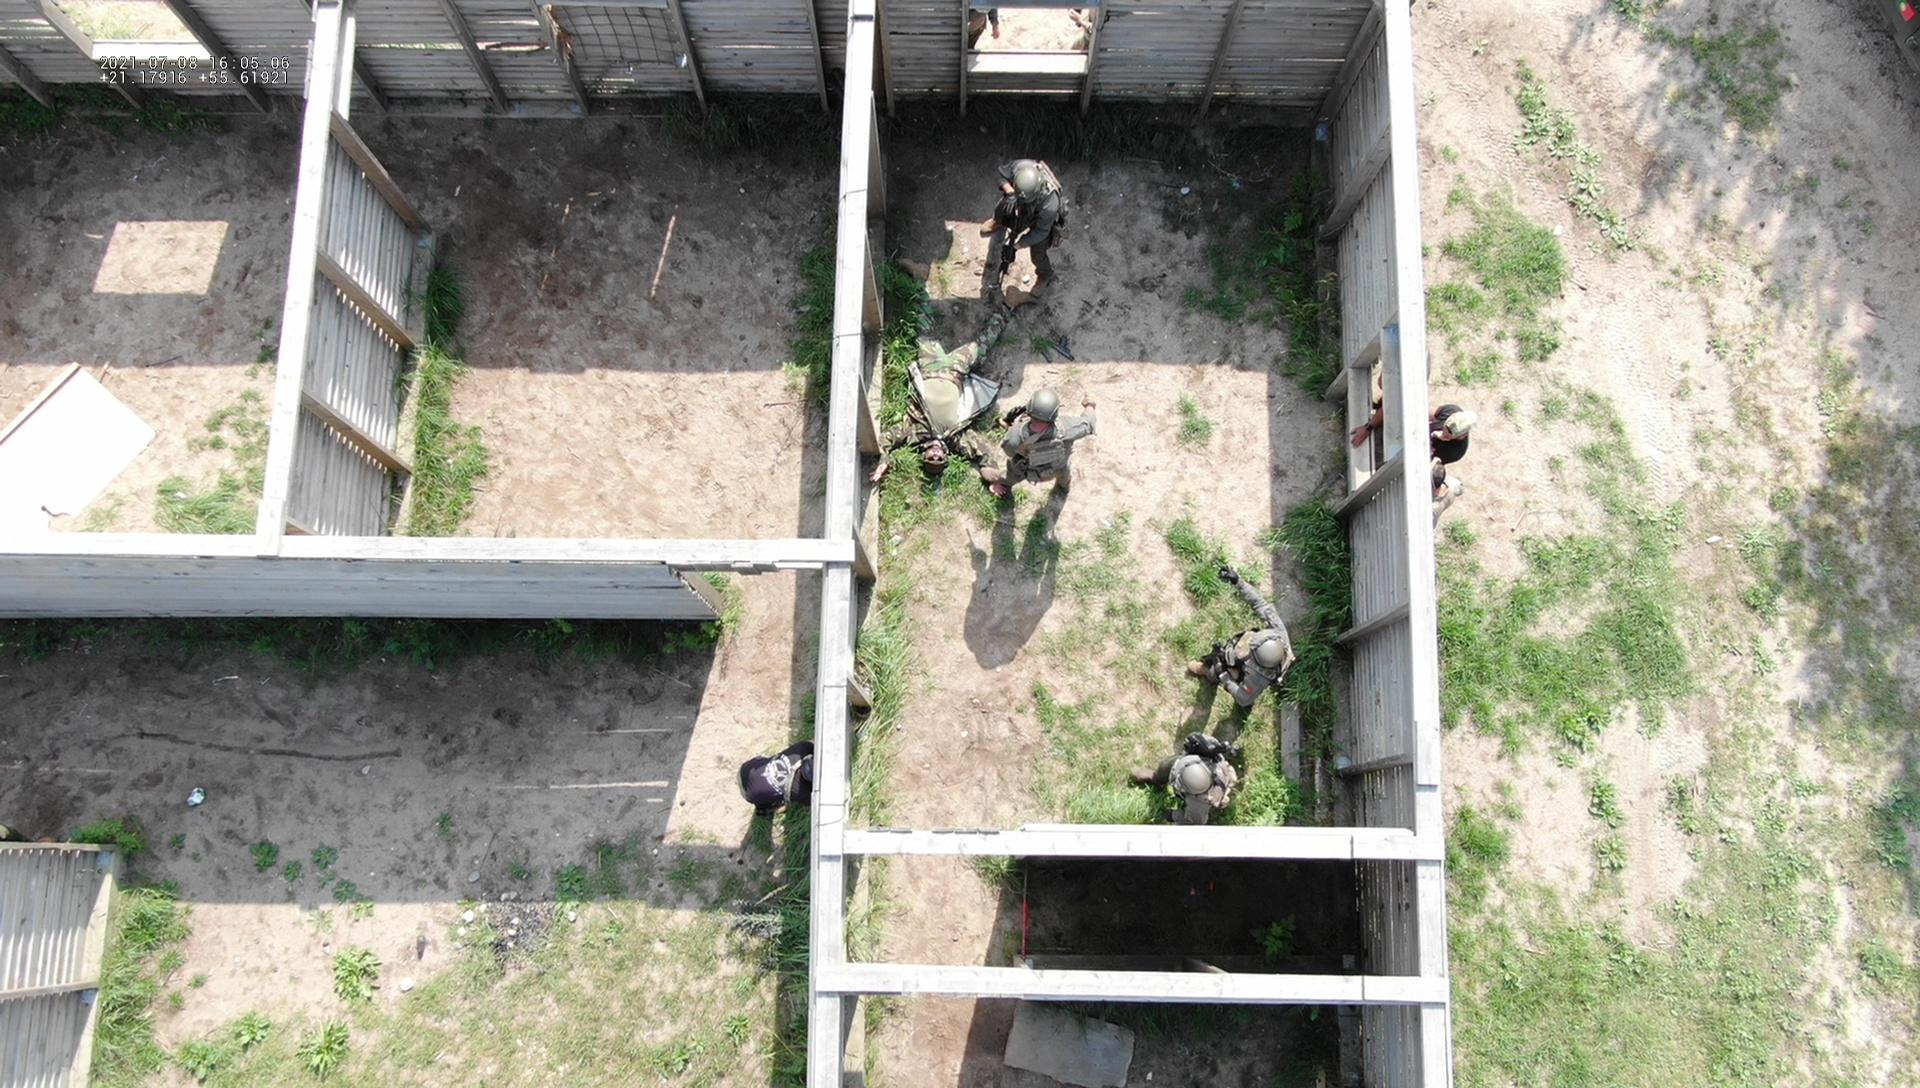Soldier: (884, 241, 1004, 506), (1172, 568, 1317, 717), (964, 142, 1077, 295), (992, 394, 1108, 526), (1135, 727, 1247, 819)
